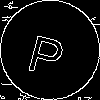P: (25, 25, 70, 78)
